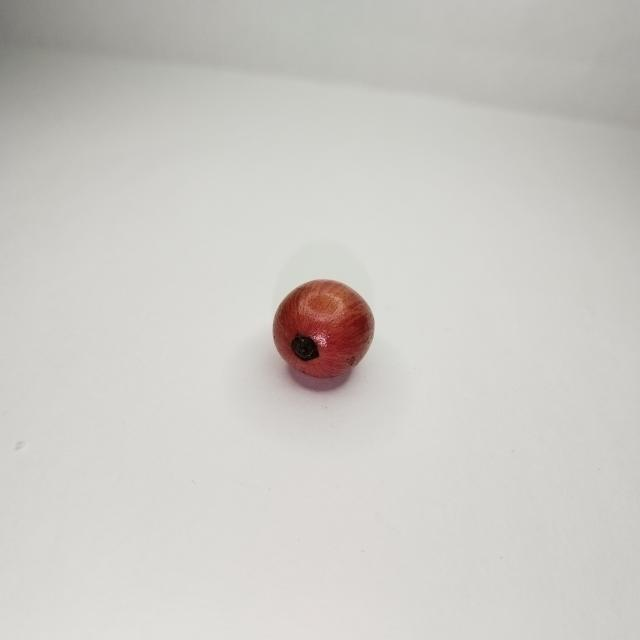Infectado: (274, 280, 375, 380)
